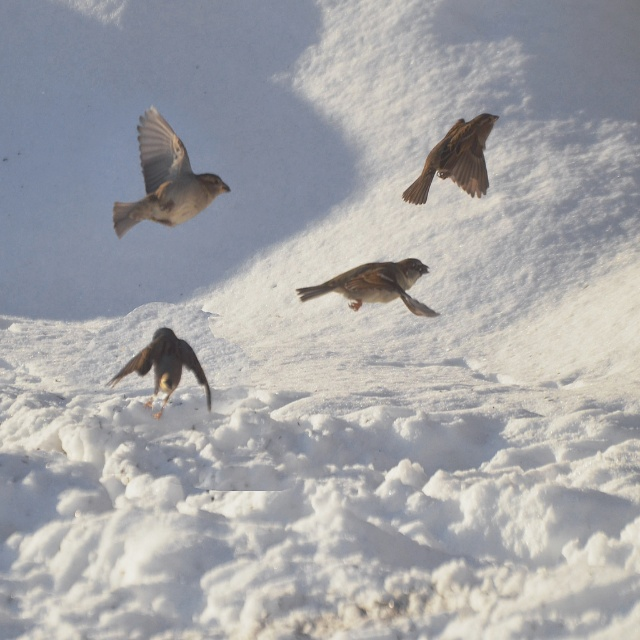Sparrow: (113, 101, 230, 239), (104, 327, 211, 420), (401, 112, 500, 205), (294, 255, 440, 316)
